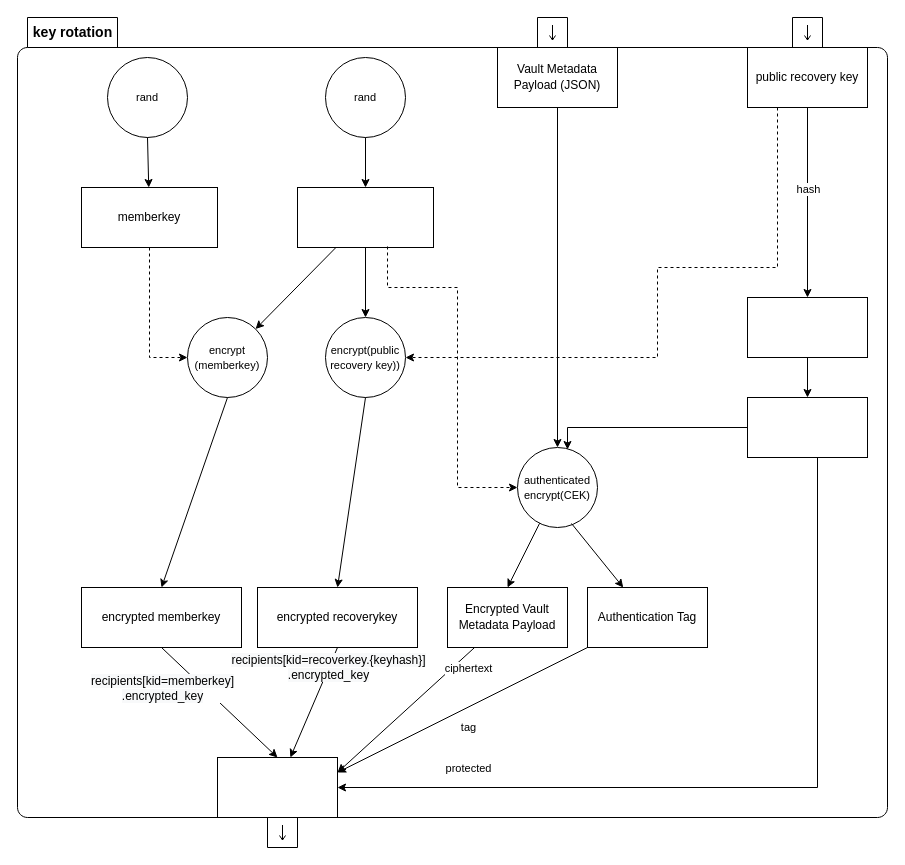
Image size: 905x865. Some labels were removed from this diagram. Each missing label, with the centre of its shape:
CEK: point 365,217
keyhash: point 807,327
Protected Header: point 807,427
vault.uvf (JWE JSON): point 277,787
